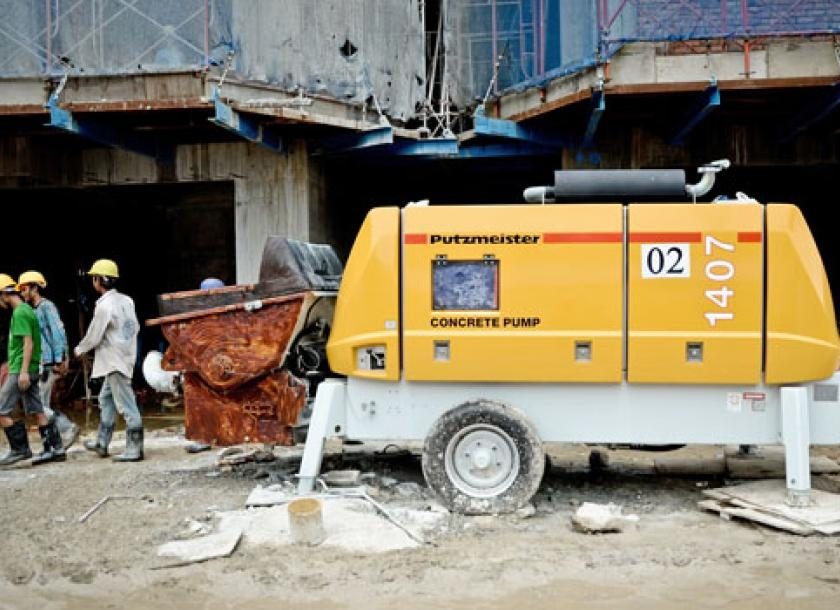yellow: (89, 256, 119, 295), (18, 271, 45, 303), (1, 273, 18, 310)
